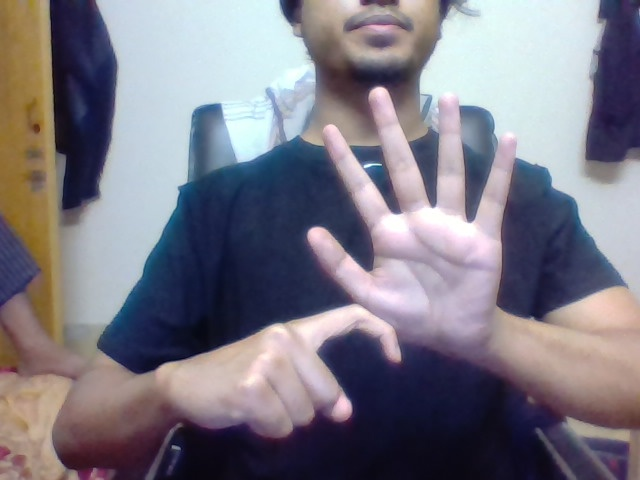R: (273, 303, 402, 424)
